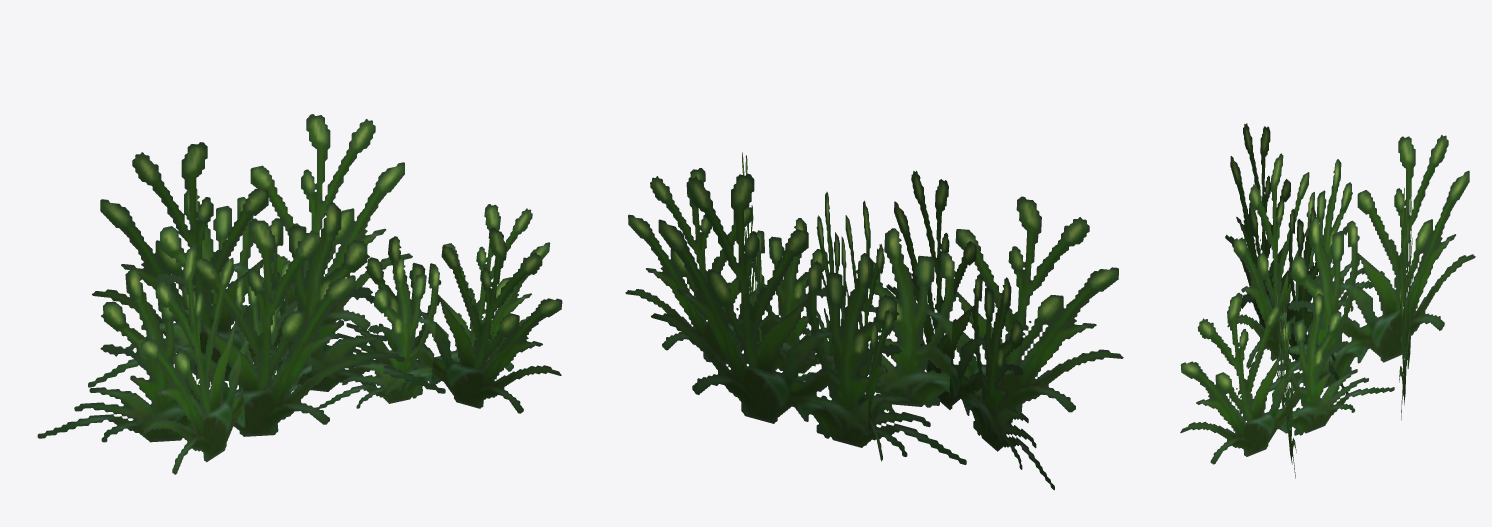
The model's file is Bush_1.FBX.
3 views of the same model, side by side, from view 1: azimuth 30°, elevation 25°; view 2: azimuth 150°, elevation 25°; view 3: azimuth 270°, elevation 25° (orthographic). The views are drawn at different scales.
Visible parts, largest first — view 1: Map1_Bush_4; view 2: Map1_Bush_4; view 3: Map1_Bush_4.
Part boxes in pixels (left/top/right/bottom): Map1_Bush_4: left=37, top=114, right=562, bottom=474; Map1_Bush_4: left=625, top=152, right=1123, bottom=490; Map1_Bush_4: left=1180, top=123, right=1475, bottom=478.
Bounding box in the file's own units: 32.1 × 18.78 × 21.18.
